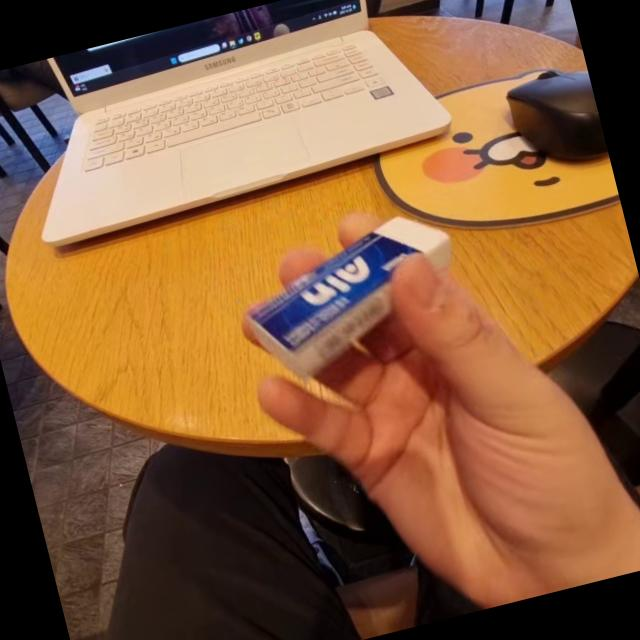eraser: (213, 192, 496, 389)
grab_eraser: (223, 169, 640, 626)
mouse: (482, 54, 610, 186)
